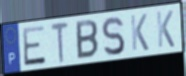B: (75, 18, 100, 61)
E: (21, 24, 47, 68)
K: (129, 12, 150, 52), (155, 9, 176, 49)
S: (100, 16, 126, 59)
T: (49, 21, 70, 64)
